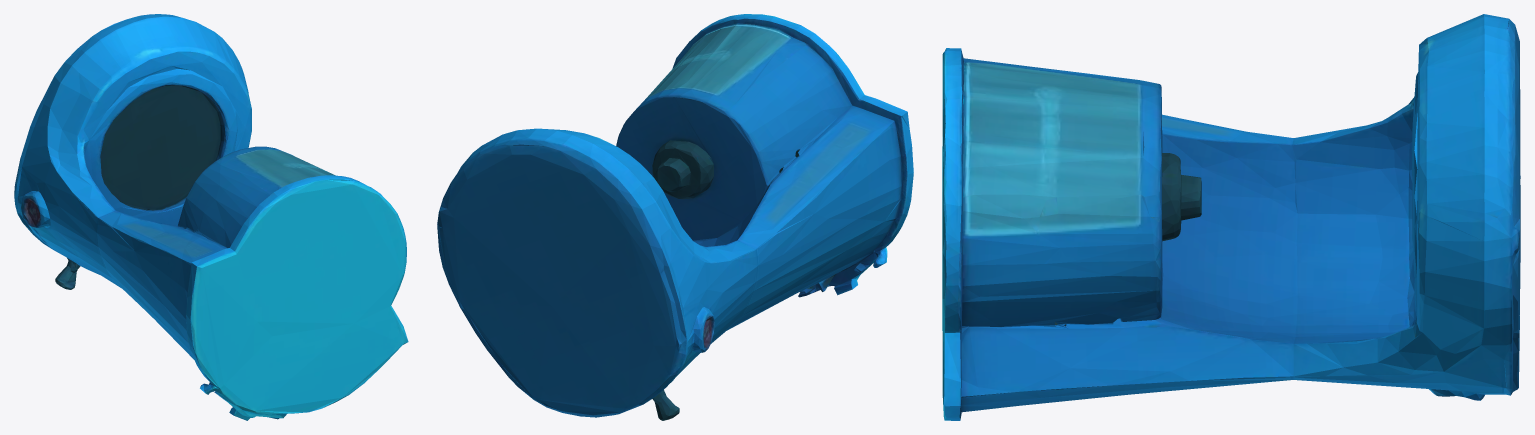
File: holstein_cm.glb
The picture shows the model from 3 angles, left to right: view 1: azimuth 30°, elevation 25°; view 2: azimuth 150°, elevation 25°; view 3: azimuth 270°, elevation 25°; orthographic projection. The views are drawn at different scales.
Visible parts, largest first — view 1: geometry_0; view 2: geometry_0; view 3: geometry_0.
Boxes of the visible parts, bbox=[...] form: geometry_0: bbox=[14, 14, 408, 420]; geometry_0: bbox=[437, 14, 913, 420]; geometry_0: bbox=[942, 14, 1520, 420].
Size of the model in its own units: 0.1803 by 0.1891 by 0.2548.
Materials: 1 (1 with a texture image).
